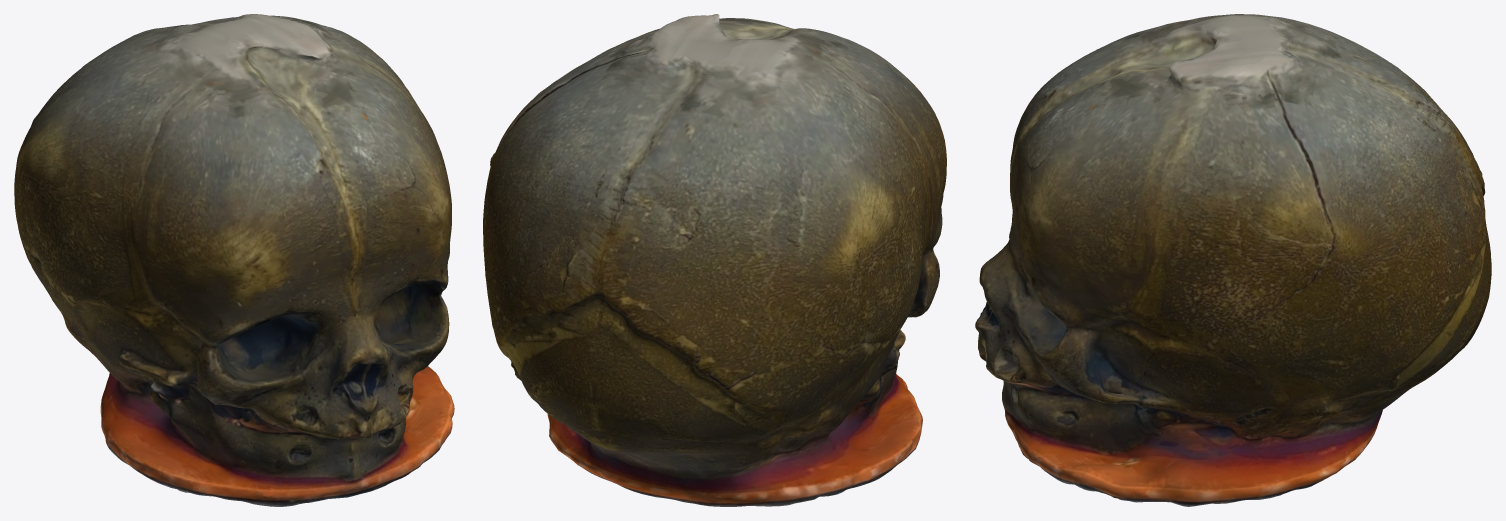
The model's file is craneo.glb.
3 renders of one model, left to right at view 1: azimuth 30°, elevation 25°; view 2: azimuth 150°, elevation 25°; view 3: azimuth 270°, elevation 25°, orthographic. The views are drawn at different scales.
Visible parts, largest first — view 1: Object; view 2: Object; view 3: Object.
Part boxes in pixels (x1,y1,x2,y2): Object: [14, 14, 454, 506]; Object: [483, 14, 946, 506]; Object: [975, 14, 1491, 506].
Bounding box in the file's own units: 1.84 × 1.96 × 2.24.
1 material, 1 textured.
